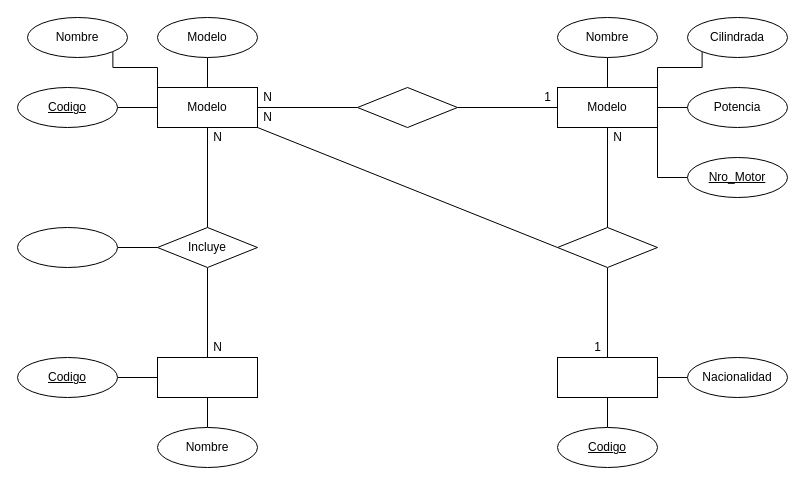
Image size: 805x485. Some labels were removed from this diagram. The shapes that lost their labels are listed below. From the top down, each one's centre as x and y in pixels, then its label:
At pixel 407 107: "Posee".
At pixel 67 247: "Opcional".
At pixel 607 247: "Es de".
At pixel 207 377: "Accesorio".
At pixel 607 377: "Marca".
